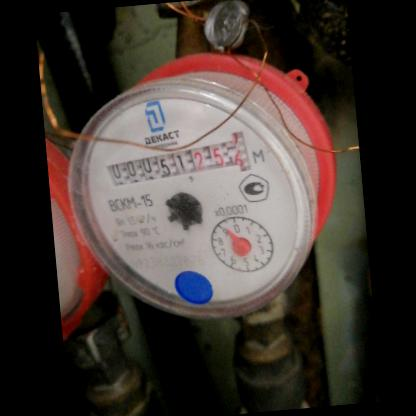digital_screen: (103, 147, 192, 189)
